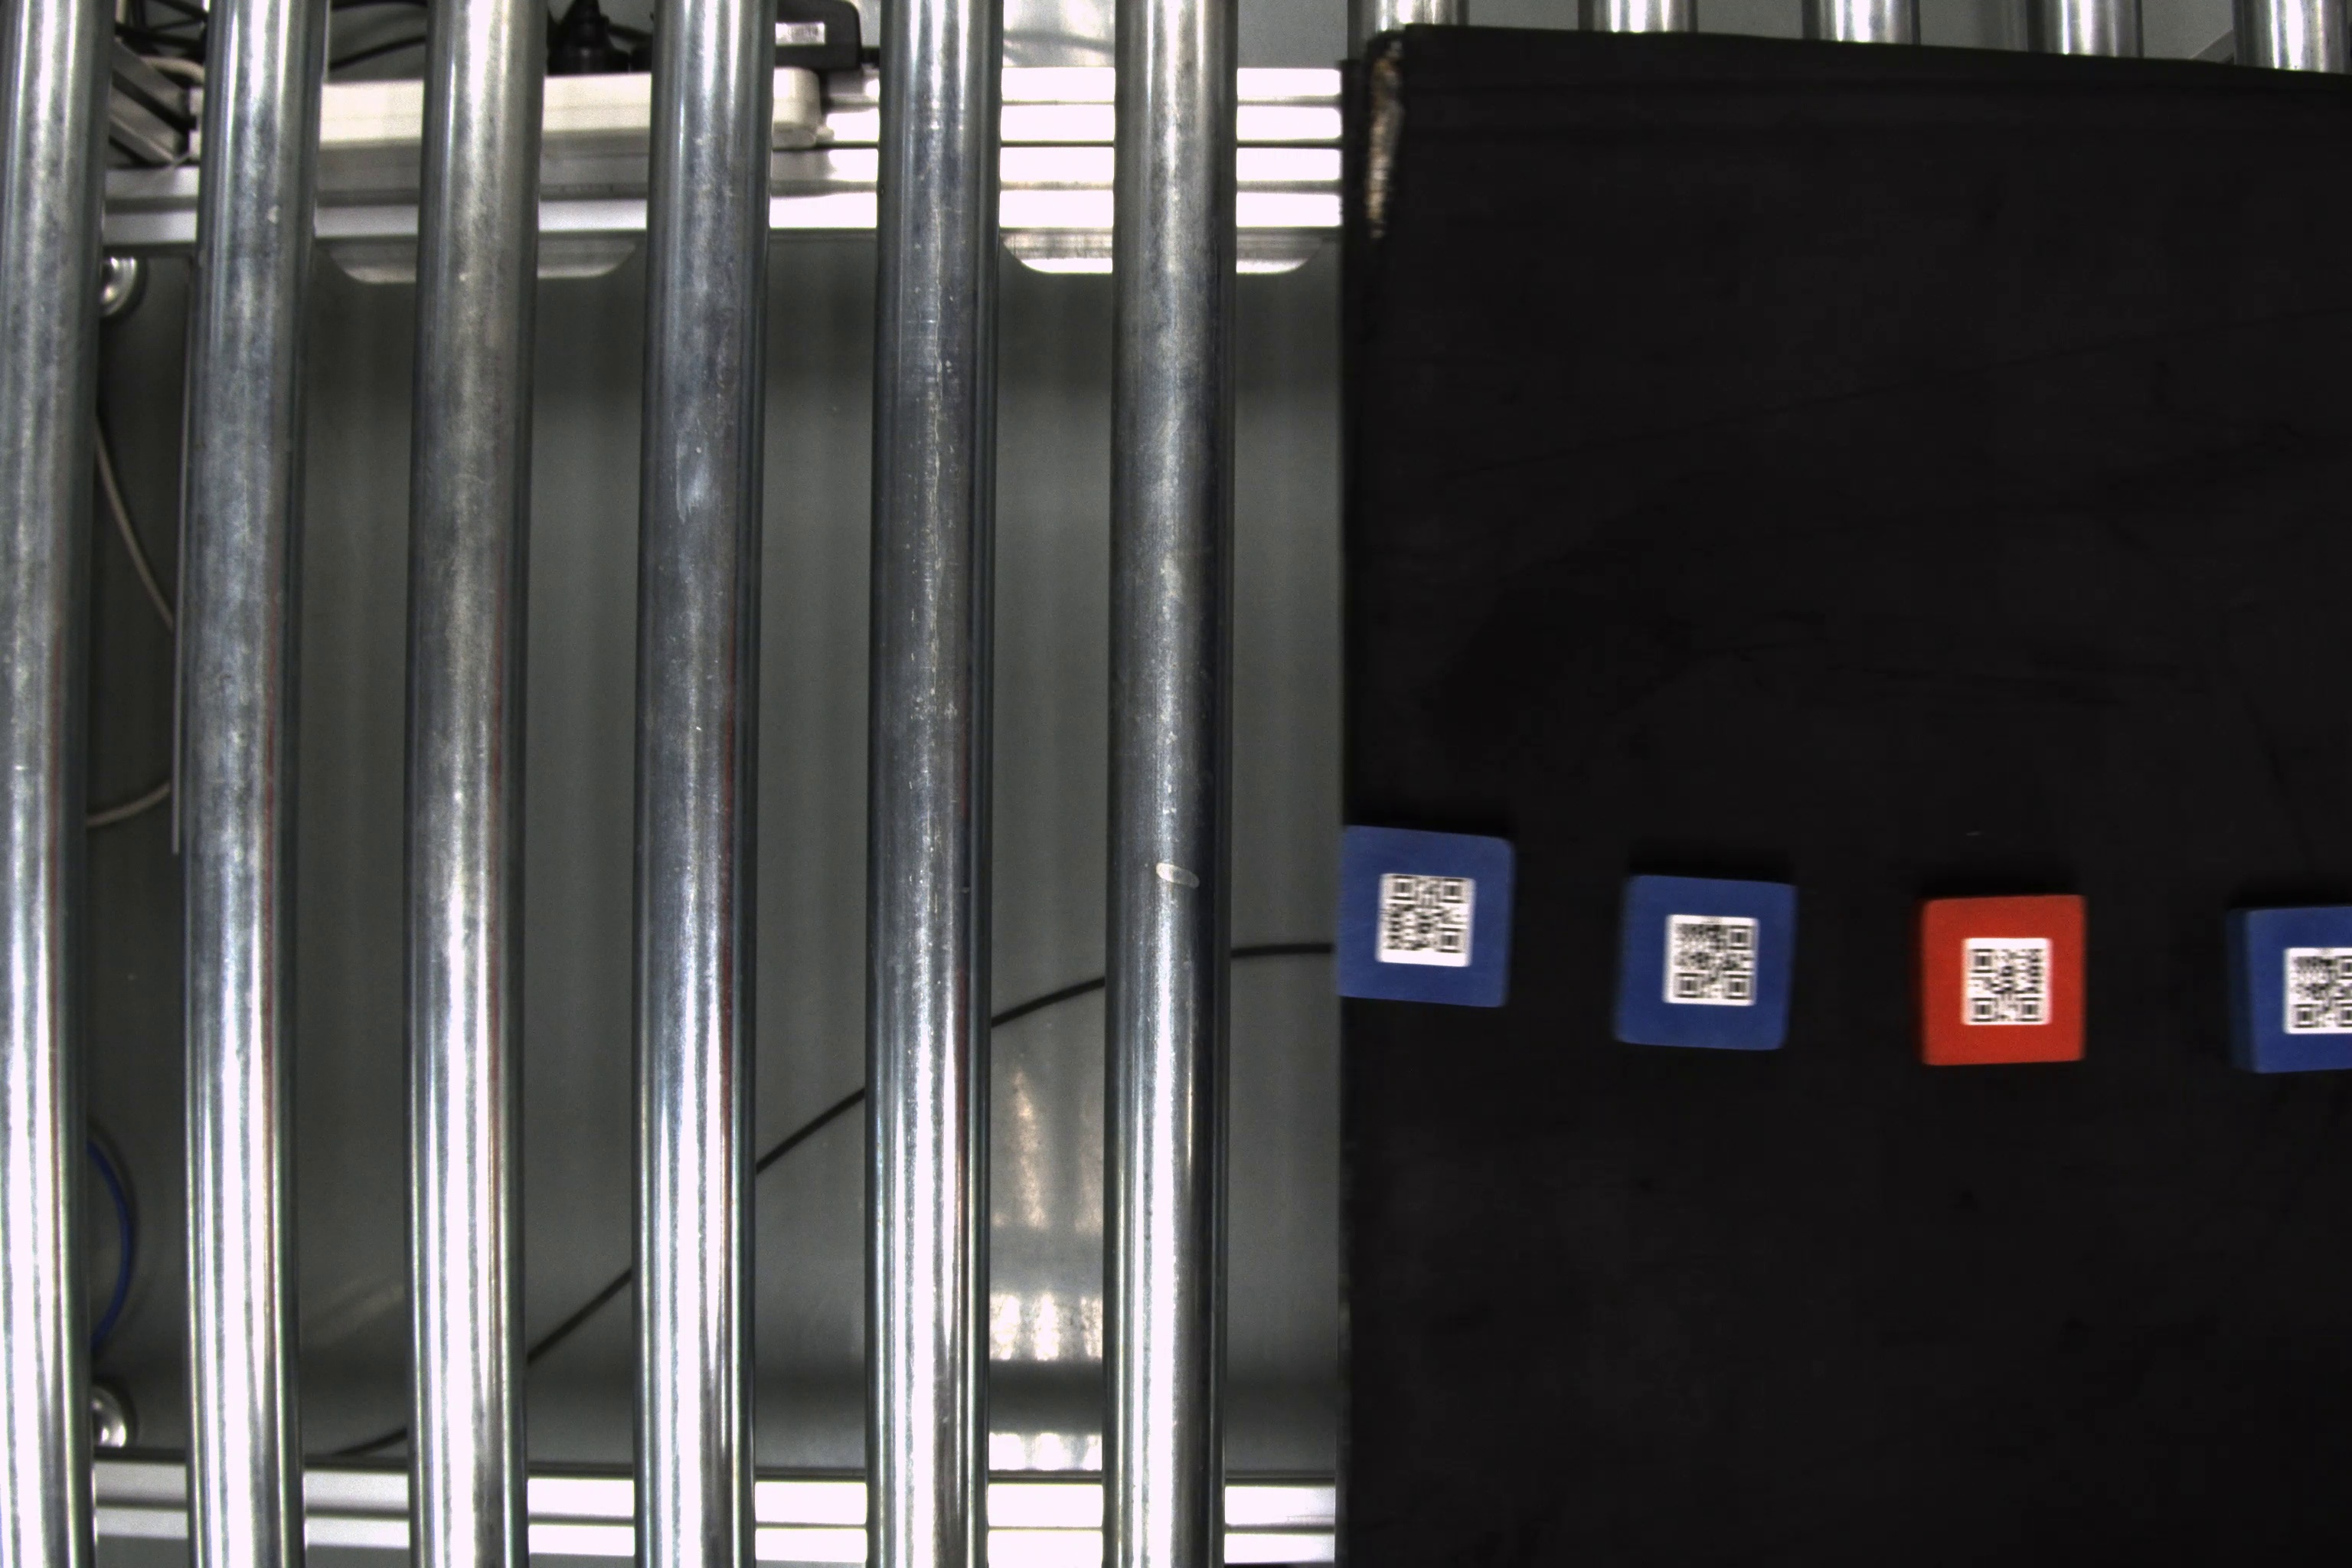wood: (1335, 822, 1526, 1006), (1612, 868, 1801, 1050), (1914, 887, 2093, 1069), (2224, 896, 2347, 1081)
